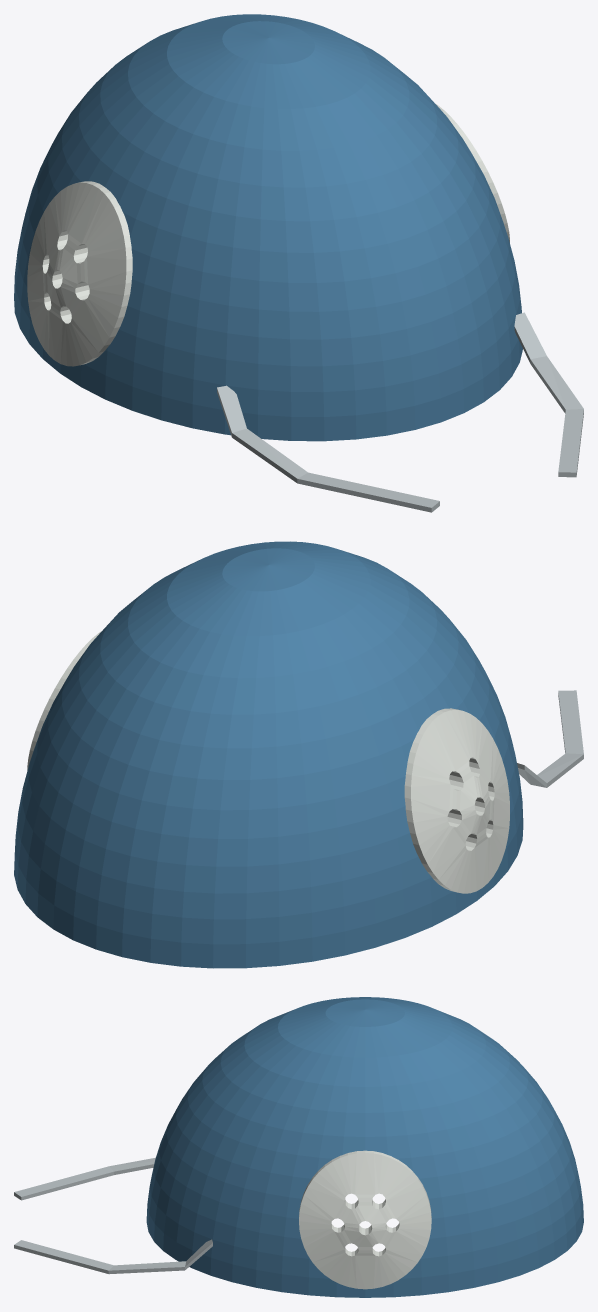
3 renders of one model, top to bottom at view 1: azimuth 30°, elevation 25°; view 2: azimuth 150°, elevation 25°; view 3: azimuth 270°, elevation 25°, orthographic. The views are drawn at different scales.
Visible parts, largest first — view 1: WholeThinOpenDomeWithTwoSideApertures, WholeLeftSevenHoleEarCover, WholeLeftForwardLaidChinTie, WholeRightForwardLaidChinTie, WholeRightSevenHoleEarCover; view 2: WholeThinOpenDomeWithTwoSideApertures, WholeLeftSevenHoleEarCover, WholeLeftForwardLaidChinTie, WholeRightSevenHoleEarCover; view 3: WholeThinOpenDomeWithTwoSideApertures, WholeRightSevenHoleEarCover, WholeRightForwardLaidChinTie, WholeLeftForwardLaidChinTie.
Part boxes in pixels (x1,y1,x2,y2): WholeThinOpenDomeWithTwoSideApertures: (14,14,522,441); WholeLeftSevenHoleEarCover: (27,181,132,366); WholeLeftForwardLaidChinTie: (217,385,439,512); WholeRightForwardLaidChinTie: (514,312,583,477); WholeRightSevenHoleEarCover: (435,103,509,242); WholeThinOpenDomeWithTwoSideApertures: (14,541,523,968); WholeLeftSevenHoleEarCover: (404,708,509,893); WholeLeftForwardLaidChinTie: (517,690,583,787); WholeRightSevenHoleEarCover: (27,631,101,770); WholeThinOpenDomeWithTwoSideApertures: (146,997,583,1297); WholeRightSevenHoleEarCover: (299,1150,431,1289); WholeRightForwardLaidChinTie: (14,1239,212,1274); WholeLeftForwardLaidChinTie: (14,1157,155,1200).
Bounding box in the file's own units: 0.1888 × 0.12 × 0.2919.
